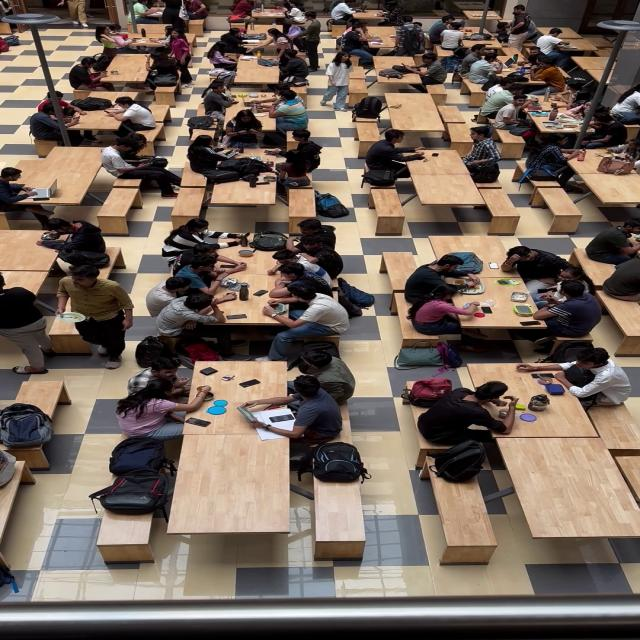Occupied: (410, 256, 580, 322), (466, 363, 602, 439), (195, 232, 336, 295), (191, 361, 284, 433), (417, 383, 517, 445), (526, 350, 632, 408), (0, 284, 54, 380), (203, 276, 302, 328), (18, 161, 108, 215), (100, 138, 181, 196), (144, 272, 233, 318), (56, 269, 135, 319), (66, 298, 130, 358), (90, 471, 174, 516), (446, 295, 551, 331), (523, 133, 587, 191), (269, 284, 349, 328), (403, 256, 474, 304), (162, 218, 245, 257), (364, 128, 427, 179), (34, 96, 98, 146), (412, 293, 487, 335), (288, 377, 342, 435), (1, 219, 62, 269), (503, 246, 572, 290), (534, 280, 601, 325), (171, 251, 245, 290), (126, 380, 184, 428), (265, 130, 322, 178), (268, 262, 335, 302), (41, 221, 107, 261), (186, 134, 246, 177), (427, 440, 487, 482), (292, 349, 354, 389), (0, 172, 48, 222), (174, 326, 243, 360), (107, 470, 164, 511), (0, 404, 53, 448), (103, 437, 171, 471), (397, 52, 452, 92), (460, 126, 502, 178), (585, 223, 636, 264), (368, 62, 431, 94), (287, 237, 340, 275), (266, 90, 310, 135), (401, 144, 473, 171), (320, 52, 353, 110), (107, 97, 157, 134), (139, 49, 182, 92), (126, 357, 181, 390), (313, 444, 362, 481), (579, 114, 628, 150), (492, 94, 539, 131), (402, 376, 456, 408), (338, 26, 378, 67), (200, 82, 236, 126), (223, 111, 264, 149), (69, 58, 113, 92), (296, 12, 322, 68), (136, 29, 198, 52), (504, 5, 535, 49), (273, 52, 309, 89), (603, 139, 640, 175), (534, 29, 570, 63), (609, 86, 640, 125), (396, 342, 444, 367), (337, 278, 374, 310), (546, 340, 595, 364), (135, 334, 170, 366), (94, 25, 132, 54), (207, 40, 242, 70), (58, 250, 110, 270), (461, 45, 498, 73), (357, 31, 402, 53), (315, 193, 351, 218), (216, 157, 264, 175), (219, 28, 251, 55), (329, 0, 362, 25), (130, 0, 158, 28), (353, 96, 385, 120), (468, 160, 500, 183), (439, 24, 466, 50), (181, 0, 208, 24), (362, 168, 396, 187), (70, 97, 112, 110), (440, 54, 462, 74), (151, 71, 178, 87)
Unoccupied: (165, 433, 291, 536), (502, 437, 620, 537), (418, 448, 499, 564), (309, 468, 365, 561), (498, 110, 582, 158), (96, 502, 156, 564), (206, 172, 281, 215), (385, 93, 446, 142), (583, 398, 640, 448), (428, 235, 509, 265), (410, 175, 482, 206), (578, 174, 640, 209), (94, 186, 144, 229), (12, 381, 68, 417), (381, 252, 421, 299), (609, 450, 640, 510), (231, 59, 284, 91), (370, 188, 407, 232), (171, 181, 209, 222), (536, 187, 584, 217), (387, 109, 446, 131), (288, 190, 319, 228), (482, 188, 518, 218), (459, 6, 499, 32), (372, 190, 406, 220), (436, 105, 467, 136), (564, 38, 612, 57), (354, 121, 383, 151), (109, 246, 126, 268)
